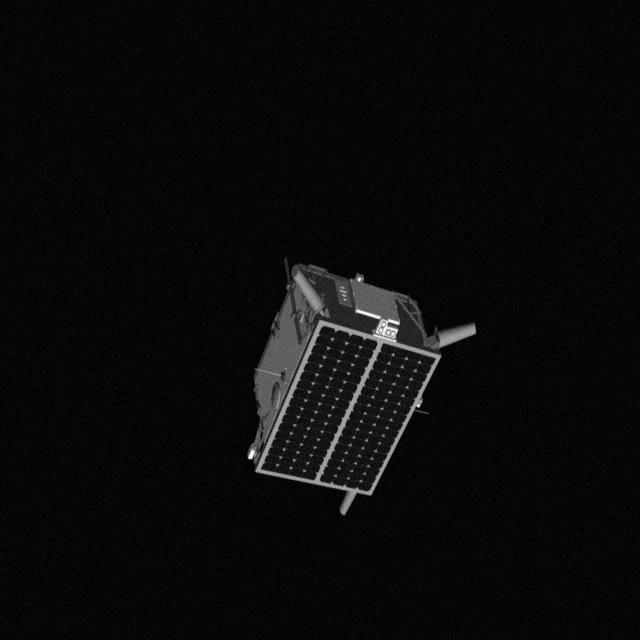satellite: (240, 262, 484, 524)
